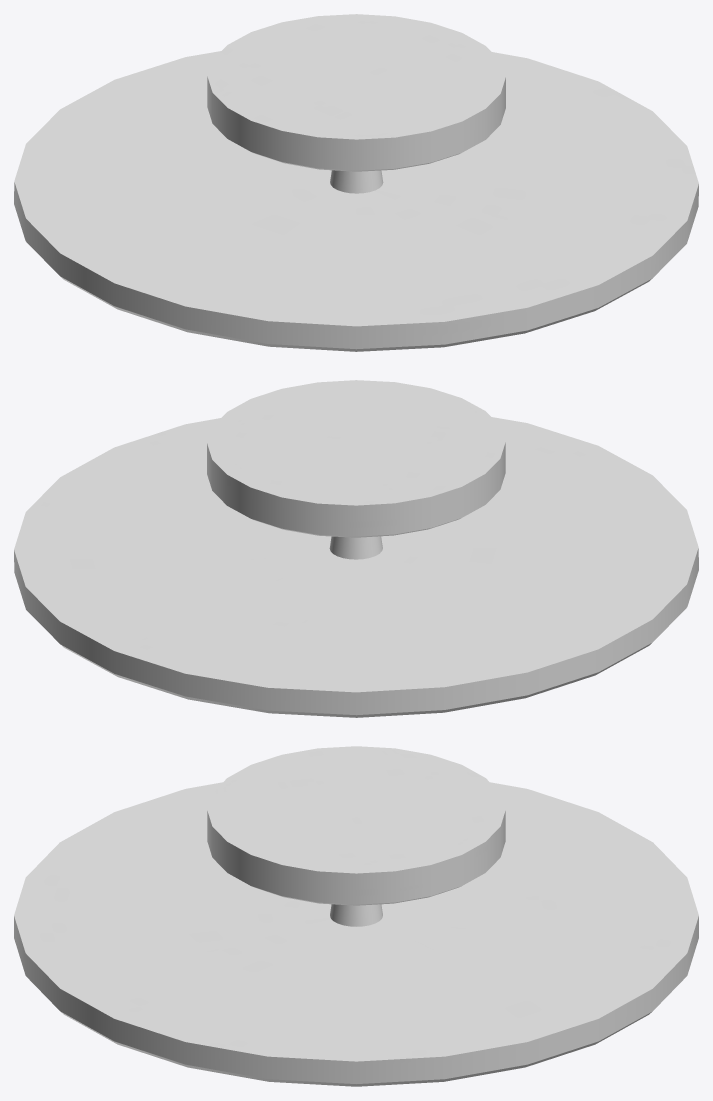
Rendered from BtR_Shower02.fbx.
The picture shows the model from 3 angles, top to bottom: view 1: azimuth 30°, elevation 25°; view 2: azimuth 150°, elevation 25°; view 3: azimuth 270°, elevation 25°; orthographic projection.
Parts seen in each view (by area): view 1: Shower02; view 2: Shower02; view 3: Shower02.
Part boxes in pixels (x1,y1,x2,y2): Shower02: [14, 14, 698, 351]; Shower02: [14, 380, 698, 717]; Shower02: [14, 746, 698, 1086].
Size of the model in its own units: 0.2371 by 0.0536 by 0.2369.
